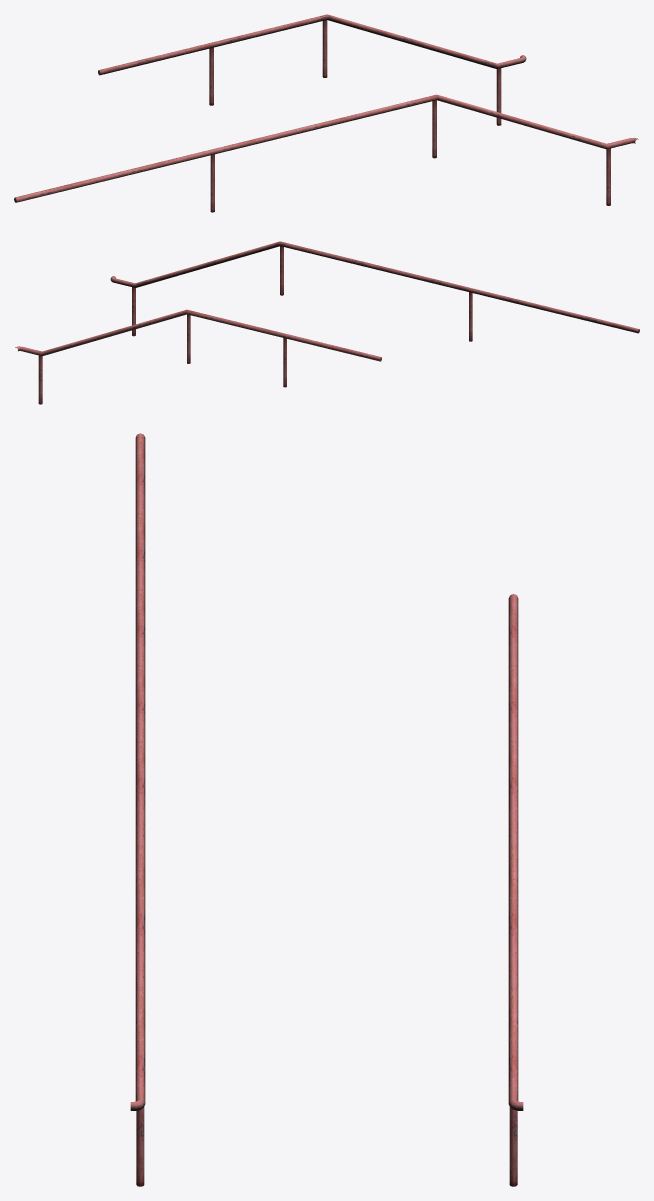
File: railing_stairs4.glb
3 renders of one model, top to bottom at view 1: azimuth 30°, elevation 25°; view 2: azimuth 150°, elevation 25°; view 3: azimuth 270°, elevation 25°, orthographic. The views are drawn at different scales.
Parts seen in each view (by area): view 1: 0_Railing_stairs, 1_Railing_stairs2; view 2: 0_Railing_stairs, 1_Railing_stairs2; view 3: 0_Railing_stairs, 1_Railing_stairs2.
Boxes of the visible parts, x1,y1,x2,y2 form: 0_Railing_stairs: [14, 14, 638, 202]; 1_Railing_stairs2: [209, 20, 610, 212]; 0_Railing_stairs: [15, 241, 639, 361]; 1_Railing_stairs2: [38, 246, 472, 404]; 0_Railing_stairs: [130, 433, 523, 1110]; 1_Railing_stairs2: [136, 1107, 517, 1186].
Bounding box in the file's own units: 10.26 × 2.4 × 3.3.
Materials: 2 (2 with a texture image).
